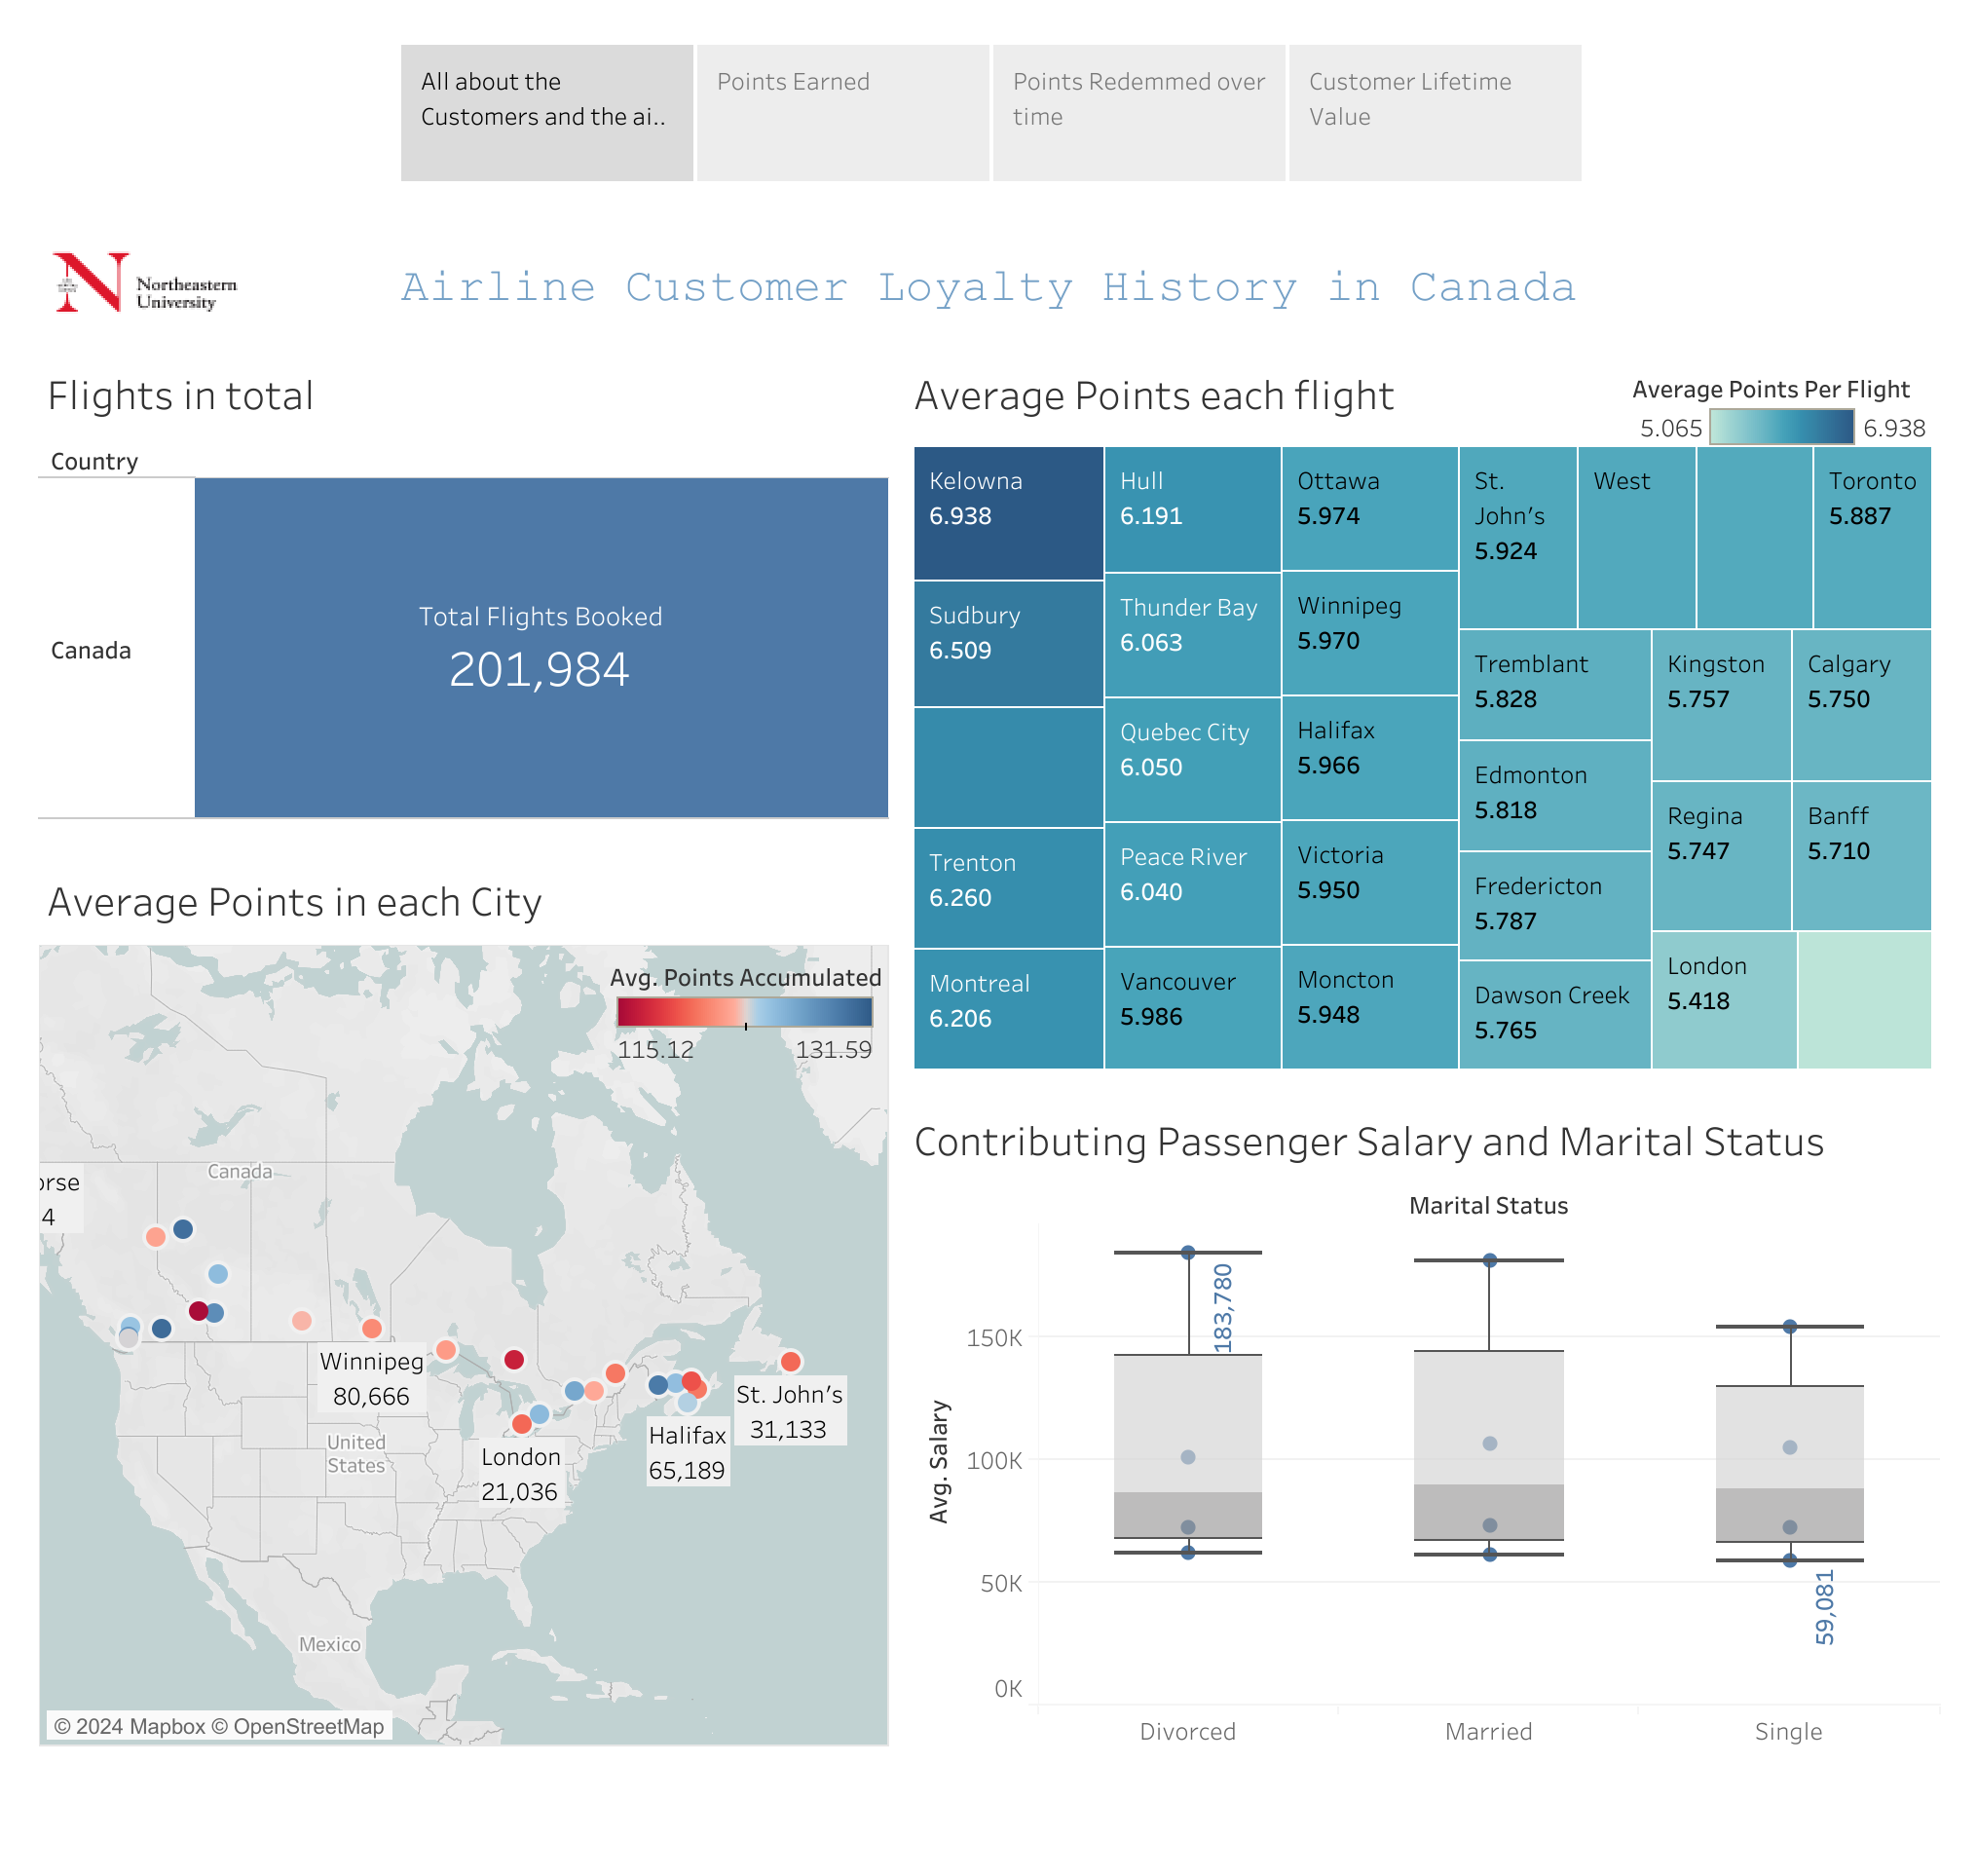

Layout of this report page (visuals, bound fields, positions):
{"tool":"tableau","page":{"name":"Customer Details","canvas":[1000,800],"ordinal":0},"visuals":[{"type":"title","box":[8,8,984,61]},{"type":"image","param":"/Users/pranavsharma/Downloads/Northeastern-University-Logo.png","box":[17,8,132,56]},{"type":"worksheet","title":"Flights in total","mark":"Square","rows":["Country"],"box":[8,69,445,260]},{"type":"worksheet","title":"Average Points each flight","mark":"Automatic","box":[453,69,539,383]},{"type":"legend","title":"Average Points each flight","param":"[federated.0cc2k8x135bfoi1cmfra00j5naav].[usr:Calculation_5561452989421281290:qk","box":[830,77,156,76]},{"type":"worksheet","title":"Average Points in each City","mark":"Automatic","box":[8,329,445,463]},{"type":"legend","title":"Average Points in each City","param":"[federated.0cc2k8x135bfoi1cmfra00j5naav].[avg:Points Accumulated:qk]","box":[305,379,140,76]},{"type":"worksheet","title":"Contributing Passenger Salary and Marital Status","mark":"Circle","rows":["Salary"],"cols":["Marital Status"],"box":[453,452,539,340]}]}

Visuals, with their boxes on the page's 1000x800 design canvas (x1, y1, x2, y2). These are canvas units, not pixel positions in the 1977x1876 screenshot, which may show the page scaled, cropped or inside an application window:
title: <bbox>8, 8, 992, 69</bbox>
image: <bbox>17, 8, 149, 64</bbox>
"Flights in total" worksheet (Square marks): <bbox>8, 69, 453, 329</bbox>
"Average Points each flight" worksheet: <bbox>453, 69, 992, 452</bbox>
"Average Points each flight" legend: <bbox>830, 77, 986, 153</bbox>
"Average Points in each City" worksheet: <bbox>8, 329, 453, 792</bbox>
"Average Points in each City" legend: <bbox>305, 379, 445, 455</bbox>
"Contributing Passenger Salary and Marital Status" worksheet (Circle marks): <bbox>453, 452, 992, 792</bbox>
